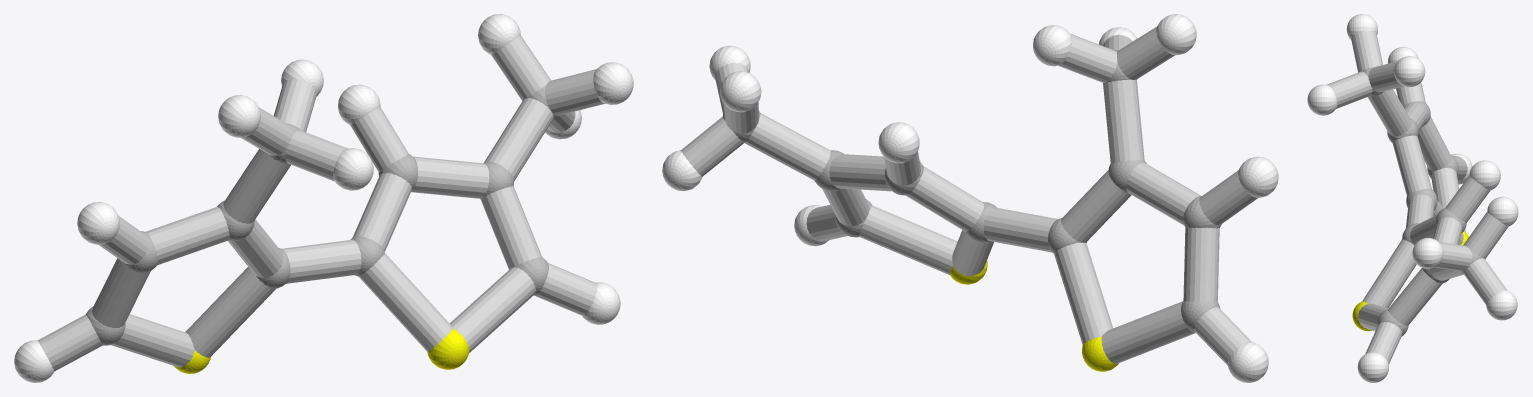
Rendered from color.glb.
3 renders of one model, left to right at view 1: azimuth 30°, elevation 25°; view 2: azimuth 150°, elevation 25°; view 3: azimuth 270°, elevation 25°, orthographic. The views are drawn at different scales.
Parts seen in each view (by area): view 1: grp7965, grp3621, grp1, grp7241; view 2: grp7965, grp3621, grp1, grp7241; view 3: grp7965, grp3621, grp1, grp7241.
Boxes of the visible parts, bbox=[...] form: grp7965: bbox=[37, 35, 604, 371]; grp3621: bbox=[14, 14, 633, 382]; grp1: bbox=[86, 86, 558, 345]; grp7241: bbox=[174, 328, 469, 373]; grp7965: bbox=[680, 26, 1257, 365]; grp3621: bbox=[662, 14, 1278, 382]; grp1: bbox=[722, 50, 1221, 332]; grp7241: bbox=[950, 260, 1118, 371]; grp7965: bbox=[1326, 31, 1507, 363]; grp3621: bbox=[1307, 14, 1518, 382]; grp1: bbox=[1361, 67, 1481, 336]; grp7241: bbox=[1352, 231, 1468, 331].
Size of the model in its own units: 9.6 by 5.03 by 4.03.
